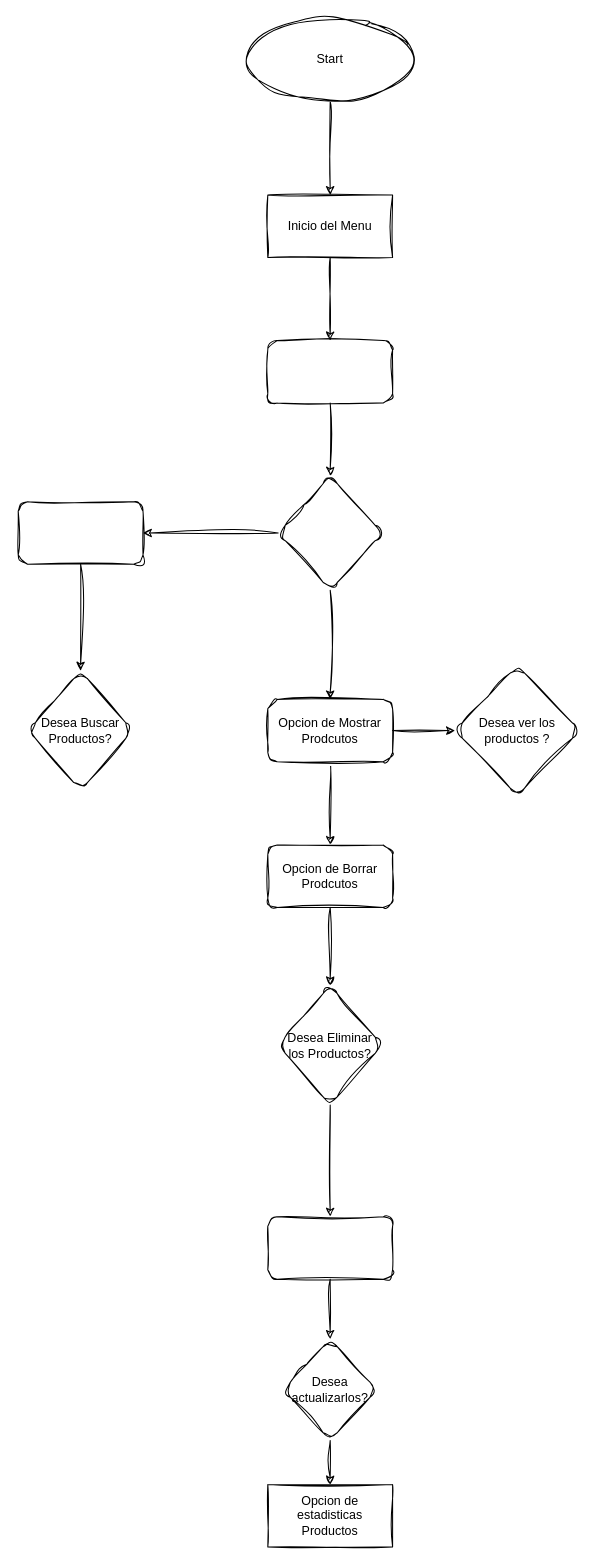
Some shapes in this 598 by 1565 pixel diagram are drawn without their labels. The shapes that lost their labels are listed below. From the top down, each one's centre as x and y in pixels, then its label:
At (x=330, y=371): "Opcion de agregar productos".
At (x=80, y=532): "Opcion de Buscar Producto".
At (x=329, y=532): "Quiere agregar productos?".
At (x=330, y=1247): "Opcion de Actualizar Productos".
